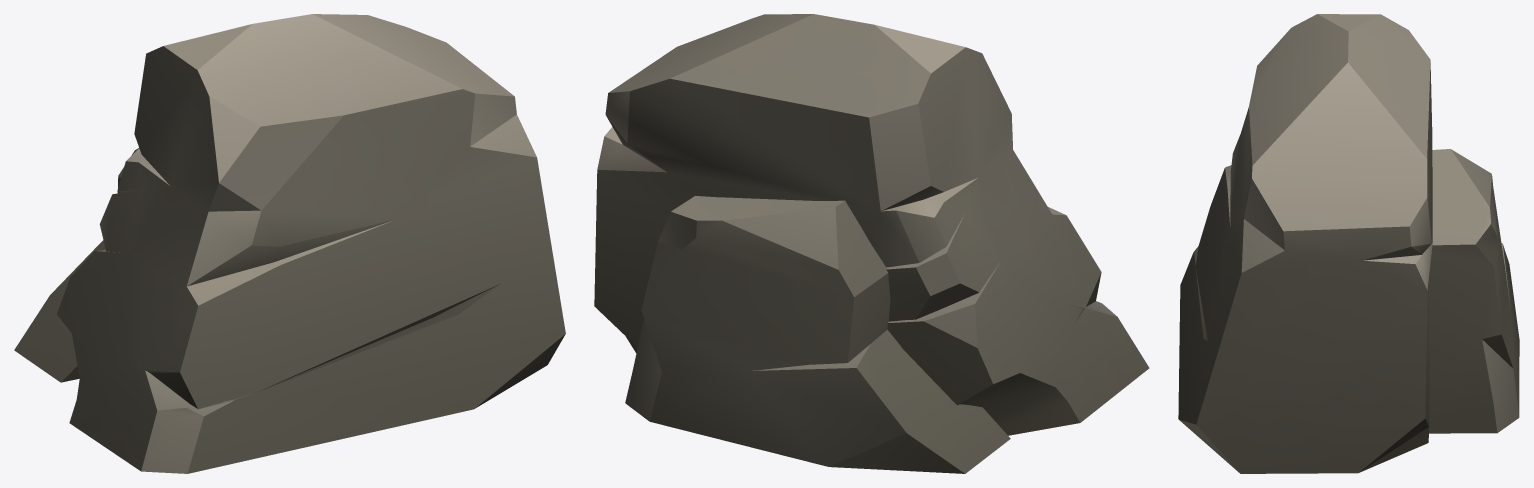
The model's file is Rock_Large_5B.fbx.
3 renders of one model, left to right at view 1: azimuth 30°, elevation 25°; view 2: azimuth 150°, elevation 25°; view 3: azimuth 270°, elevation 25°, orthographic. The views are drawn at different scales.
Parts seen in each view (by area): view 1: Rock_Large_5B; view 2: Rock_Large_5B; view 3: Rock_Large_5B.
Boxes of the visible parts, box(x1,y1,x2,y2) form: Rock_Large_5B: box(14, 14, 565, 473); Rock_Large_5B: box(594, 14, 1149, 473); Rock_Large_5B: box(1178, 14, 1519, 473).
Size of the model in its own units: 647 by 514 by 475.
